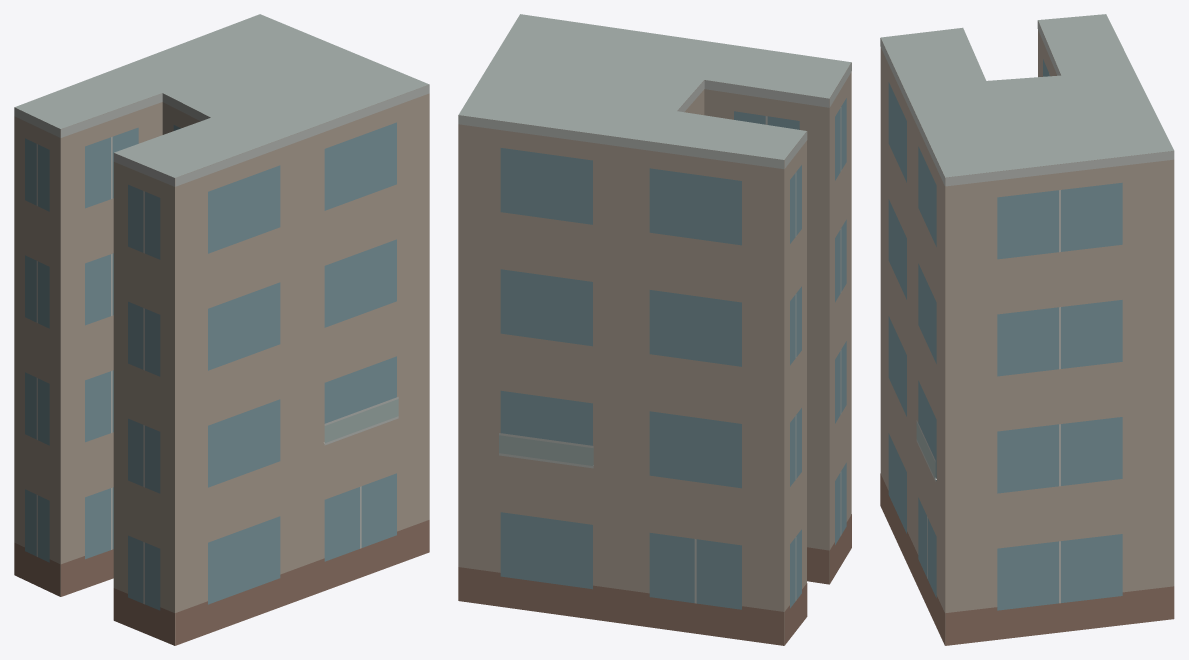
Rendered from survey-upis-33011825.glb.
3 renders of one model, left to right at view 1: azimuth 30°, elevation 25°; view 2: azimuth 150°, elevation 25°; view 3: azimuth 270°, elevation 25°, orthographic. The views are drawn at different scales.
Parts seen in each view (by area): view 1: survey-upis-33011825.tmp; view 2: survey-upis-33011825.tmp; view 3: survey-upis-33011825.tmp.
Part boxes in pixels (x1,y1,x2,y2): survey-upis-33011825.tmp: (14,14,429,645); survey-upis-33011825.tmp: (458,14,851,645); survey-upis-33011825.tmp: (880,14,1174,645).
Bounding box in the file's own units: 9.6 × 12.8 × 7.29.
